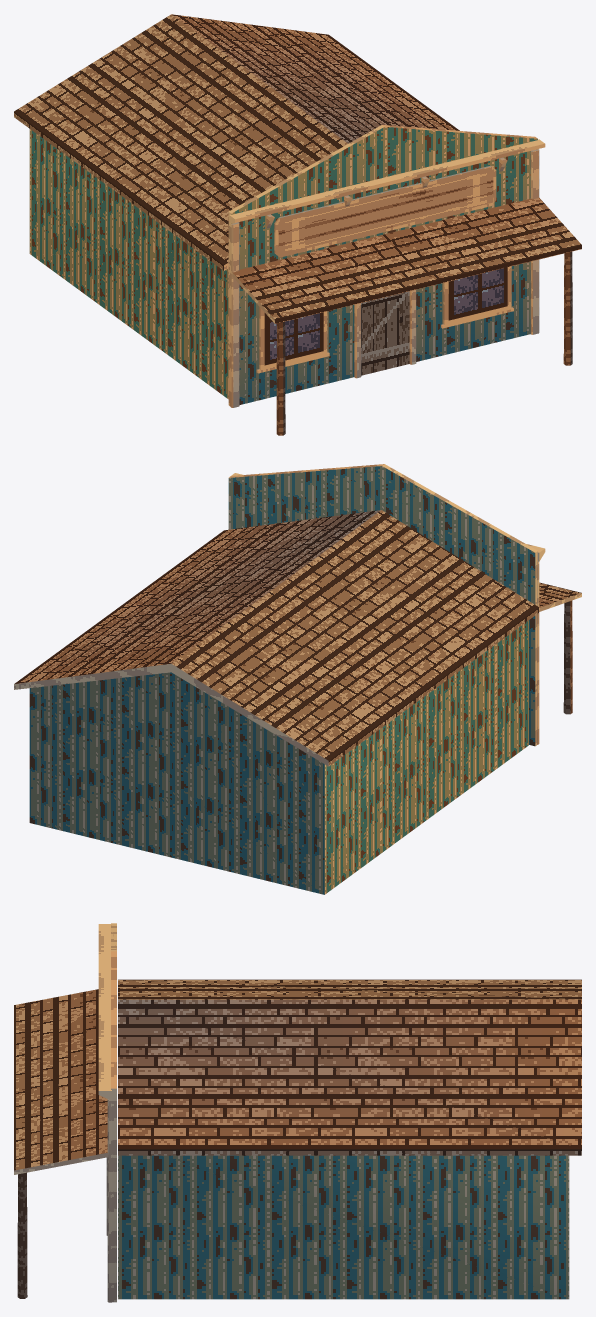
File: wtown.store__battens.glb
3 views of the same model, one above another, from view 1: azimuth 30°, elevation 25°; view 2: azimuth 150°, elevation 25°; view 3: azimuth 270°, elevation 25° (orthographic). The views are drawn at different scales.
Visible parts, largest first — view 1: kit_roof, kit_front, kit_body, kit_porch, kit_card_panes, kit_trim, kit_windows; view 2: kit_body, kit_roof, kit_front, kit_porch, kit_trim; view 3: kit_roof, kit_body, kit_porch, kit_trim, kit_front.
Part boxes in pixels (<box>): kit_roof: <box>14,14,459,270</box>; kit_front: <box>228,125,537,405</box>; kit_body: <box>29,129,228,399</box>; kit_porch: <box>232,197,581,435</box>; kit_card_panes: <box>264,169,507,375</box>; kit_trim: <box>229,139,545,407</box>; kit_windows: <box>256,266,513,373</box>; kit_body: <box>29,620,528,894</box>; kit_roof: <box>14,510,538,766</box>; kit_front: <box>228,464,537,746</box>; kit_porch: <box>539,582,581,714</box>; kit_trim: <box>230,473,545,744</box>; kit_roof: <box>118,979,581,1155</box>; kit_body: <box>118,1155,569,1299</box>; kit_porch: <box>14,989,108,1298</box>; kit_trim: <box>98,924,111,1302</box>; kit_front: <box>111,923,116,1302</box>.
Size of the model in its own units: 8 by 5.9 by 11.32.
7 materials, 7 textured.
